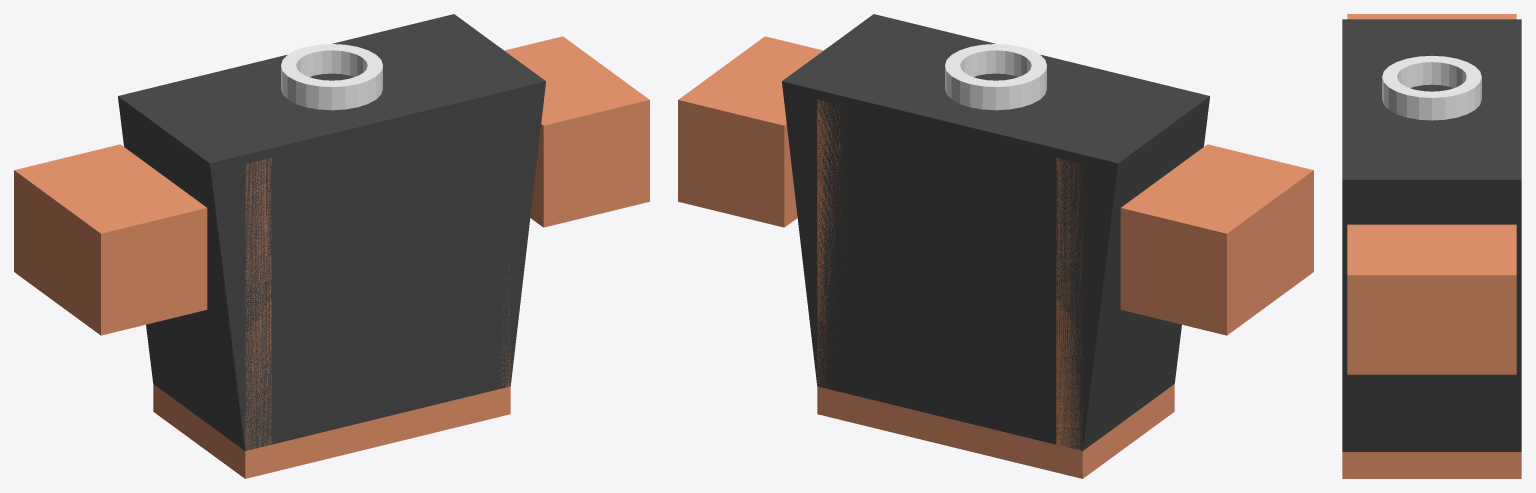
File: jersey.glb
The picture shows the model from 3 angles, left to right: view 1: azimuth 30°, elevation 25°; view 2: azimuth 150°, elevation 25°; view 3: azimuth 270°, elevation 25°; orthographic projection. The views are drawn at different scales.
Parts seen in each view (by area): view 1: Jersey_Body, Jersey_Sleeves, Jersey_Hem, Jersey_Collar, Jersey_SidePanels; view 2: Jersey_Body, Jersey_Sleeves, Jersey_Hem, Jersey_SidePanels, Jersey_Collar; view 3: Jersey_Body, Jersey_Sleeves, Jersey_Collar, Jersey_Hem.
Boxes of the visible parts, x1=… form: Jersey_Body: x1=118, y1=14, x2=545, y2=450; Jersey_Sleeves: x1=14, y1=36, x2=649, y2=335; Jersey_Hem: x1=153, y1=384, x2=510, y2=478; Jersey_Collar: x1=281, y1=44, x2=382, y2=110; Jersey_SidePanels: x1=245, y1=158, x2=510, y2=450; Jersey_Body: x1=782, y1=14, x2=1209, y2=450; Jersey_Sleeves: x1=678, y1=36, x2=1313, y2=335; Jersey_Hem: x1=817, y1=384, x2=1174, y2=478; Jersey_SidePanels: x1=817, y1=99, x2=1082, y2=450; Jersey_Collar: x1=945, y1=44, x2=1046, y2=110; Jersey_Body: x1=1342, y1=19, x2=1521, y2=451; Jersey_Sleeves: x1=1347, y1=14, x2=1516, y2=374; Jersey_Collar: x1=1382, y1=55, x2=1481, y2=120; Jersey_Hem: x1=1342, y1=452, x2=1521, y2=478.
Bounding box in the file's own units: 1.24 × 0.75 × 0.36.
